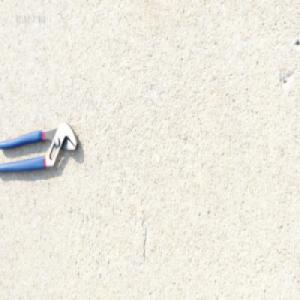Pliers: (0, 120, 78, 174)
